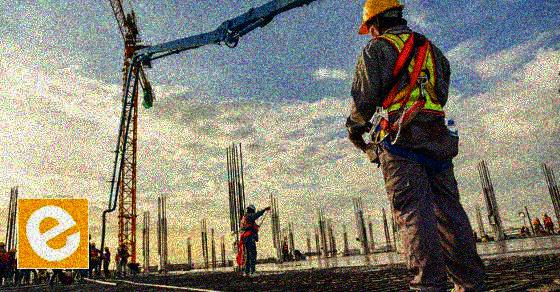helmet: (358, 1, 405, 40), (247, 203, 258, 213), (8, 248, 16, 256), (118, 241, 126, 248), (103, 245, 109, 252), (90, 242, 95, 248), (1, 242, 5, 248)
